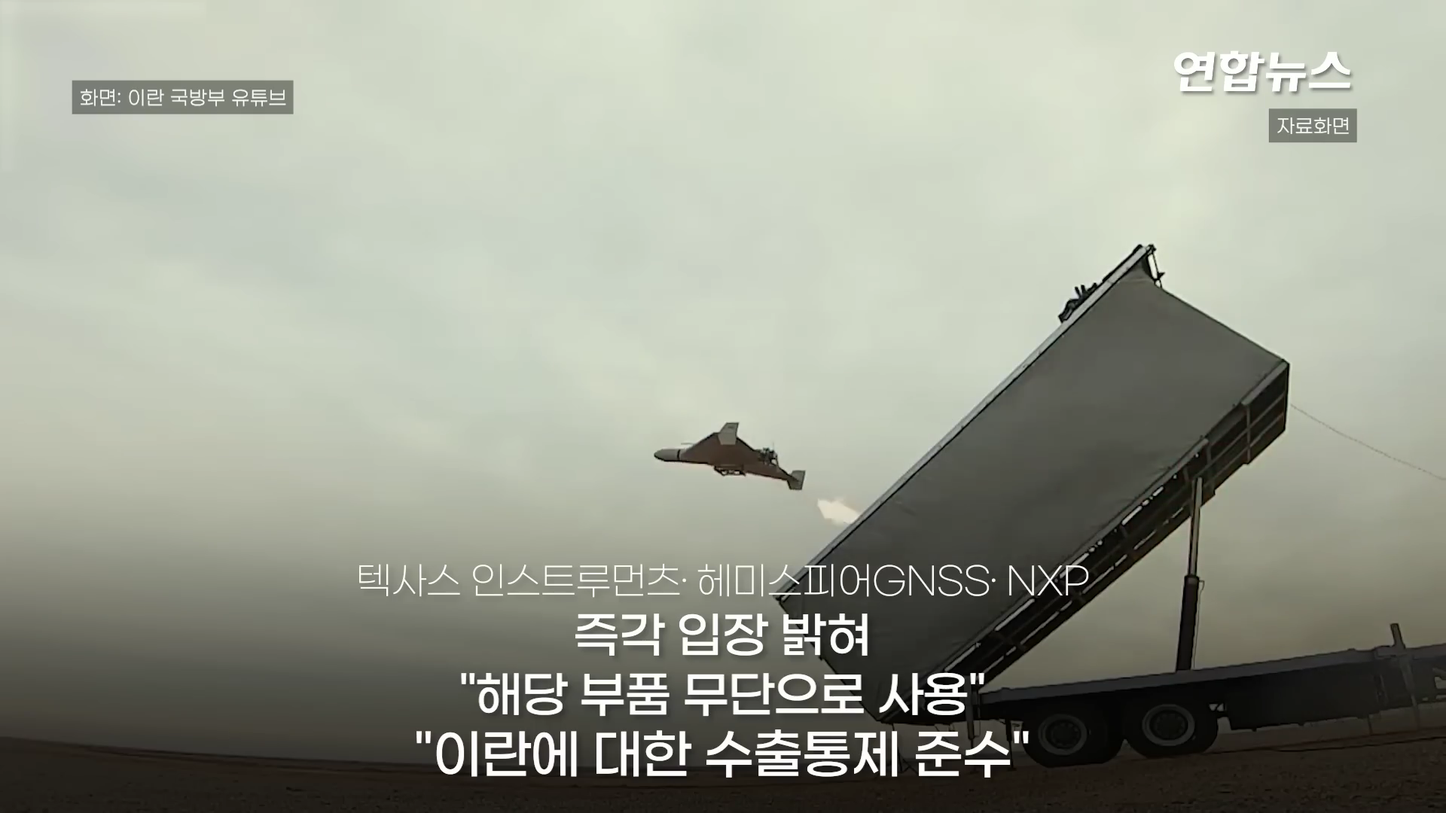shahed: (643, 416, 818, 507)
